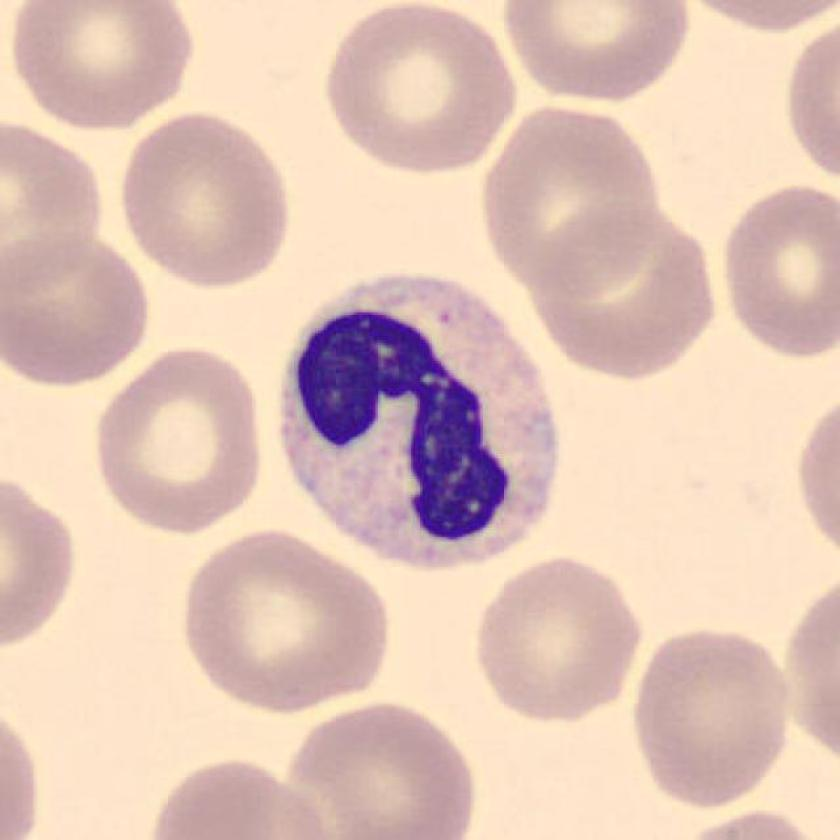neutrophil: (285, 277, 560, 567)
